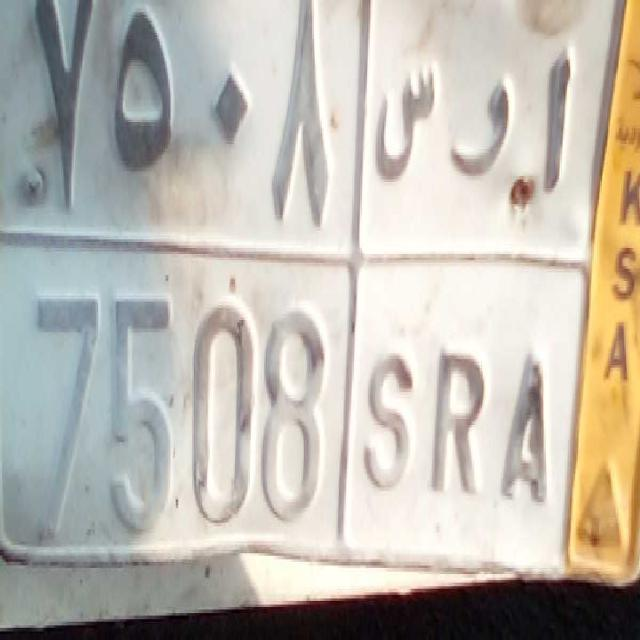license_plate: (0, 232, 580, 578)
